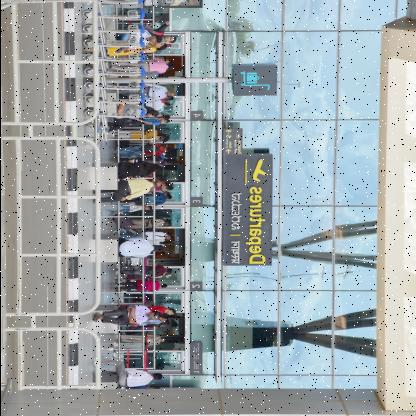airport-trolley: (76, 108, 148, 148), (84, 87, 146, 127), (84, 46, 146, 72), (84, 18, 146, 40), (77, 0, 147, 17), (82, 69, 144, 84), (89, 38, 143, 53)
